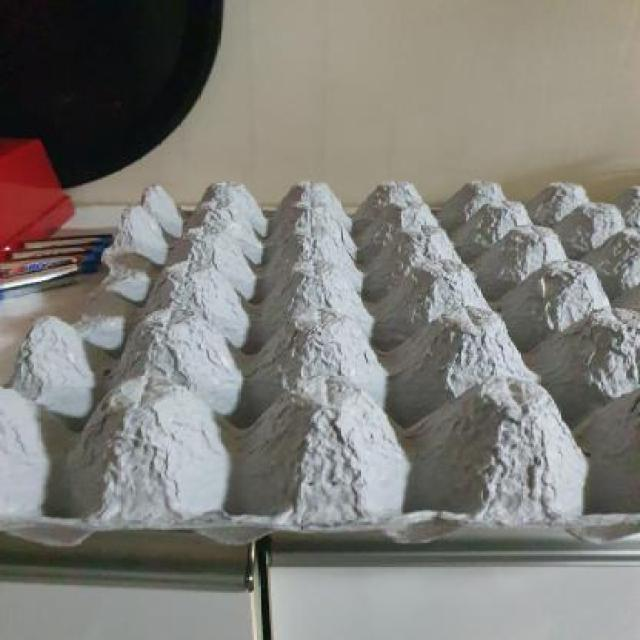box: (3, 136, 639, 626)
